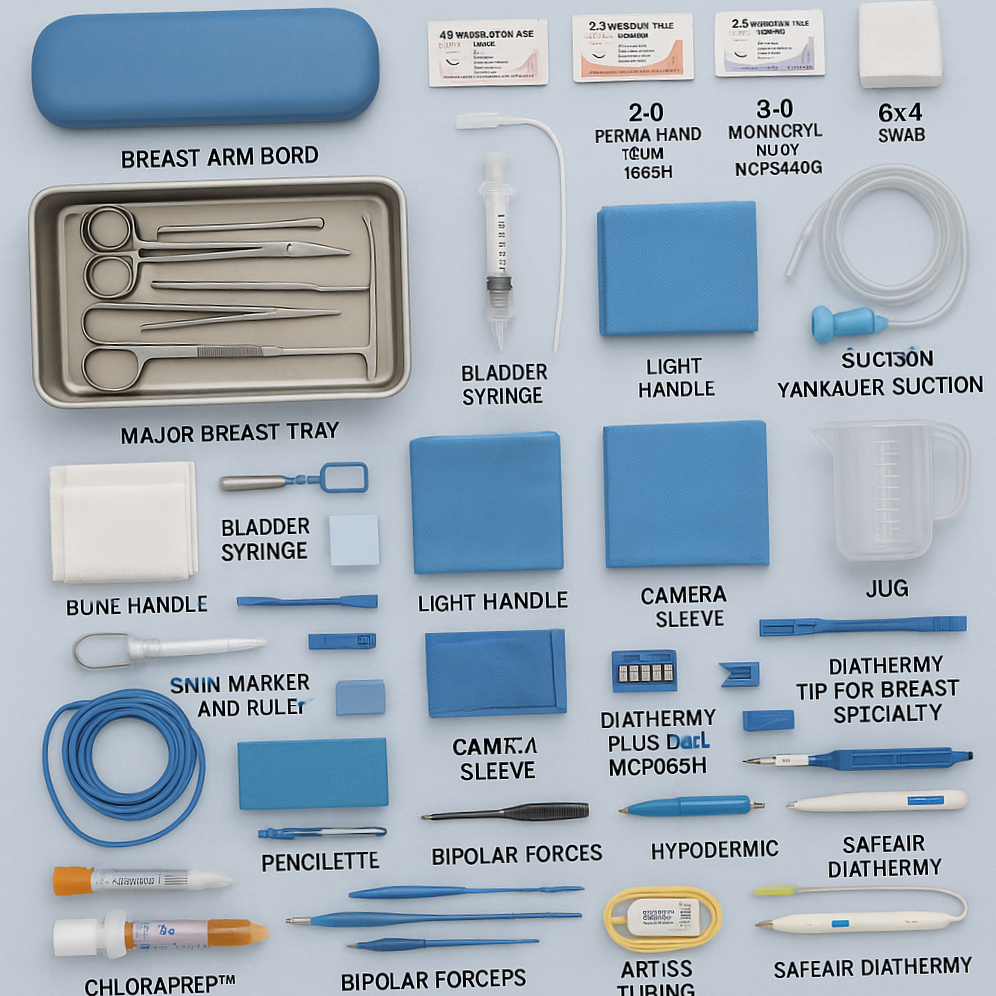2-0 perma-hand silk 1689h: (577, 24, 702, 104)
3-0 monocryl plus mcp683h: (723, 31, 829, 100), (601, 641, 674, 700)
6x4 swab: (856, 19, 952, 116)
artiss tubing: (585, 881, 707, 949)
bipolar forceps: (275, 862, 582, 945), (412, 785, 584, 822)
bladder syringe: (223, 449, 379, 495)
breast arm board: (52, 14, 397, 130)
camera sleeve: (597, 432, 769, 578), (420, 619, 566, 721)
chloraprep‚Ñ¢: (43, 835, 260, 939)
diathermy tip for breast specialty: (743, 618, 962, 645)
hypodermic blue: (601, 790, 754, 822)
light handle - small: (406, 429, 565, 578), (603, 216, 767, 351)
major breast tray: (59, 189, 410, 390)
pencilette: (249, 806, 389, 826)
safeair diathermy: (731, 880, 951, 941), (769, 788, 953, 829)
